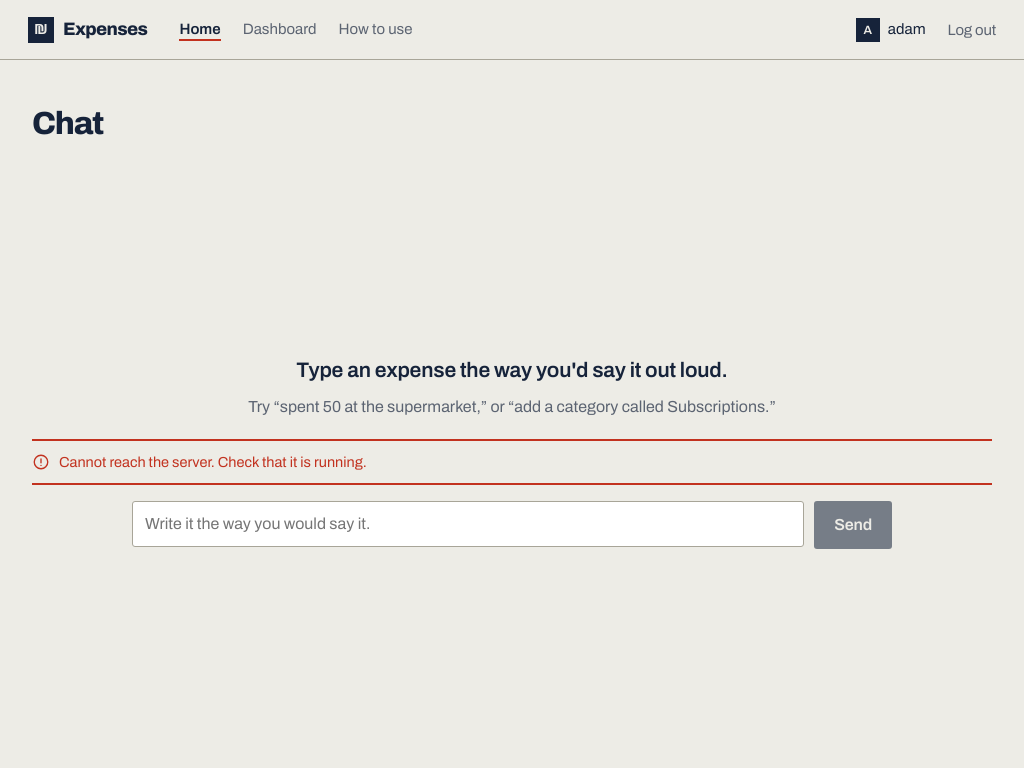
Test: NavBar › returns to the login screen after logging out
Click the button "Log out": (972, 30) [948, 22, 996, 38]
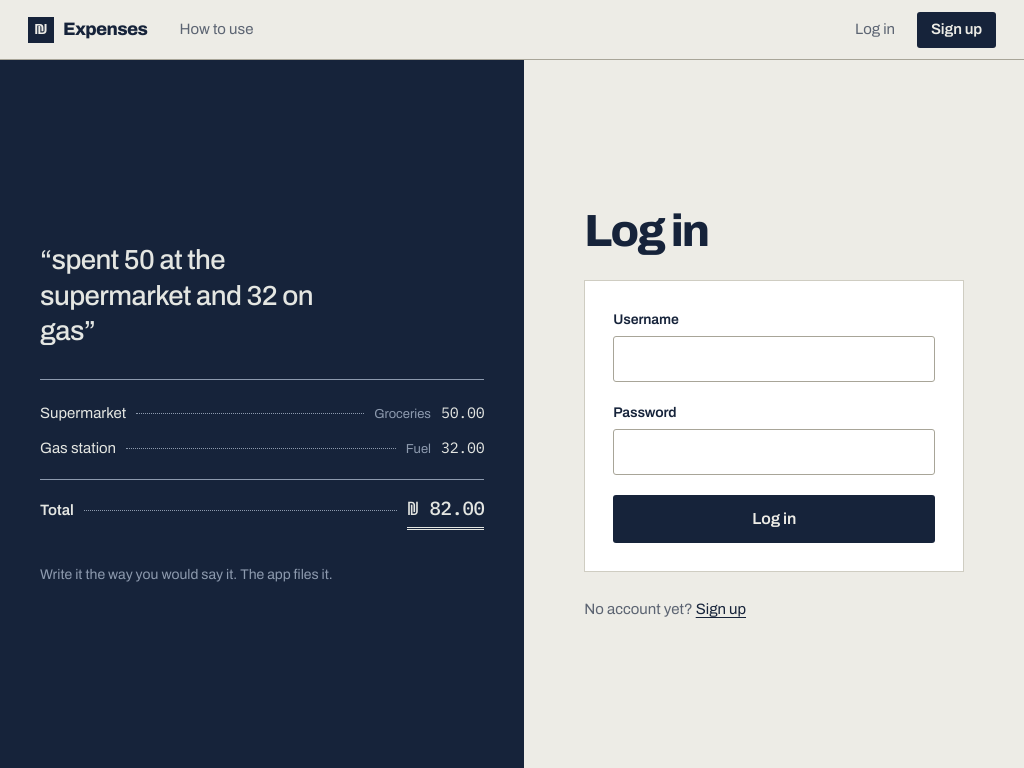
expect the button "Log in" is shown: met, box [613, 495, 935, 543]
